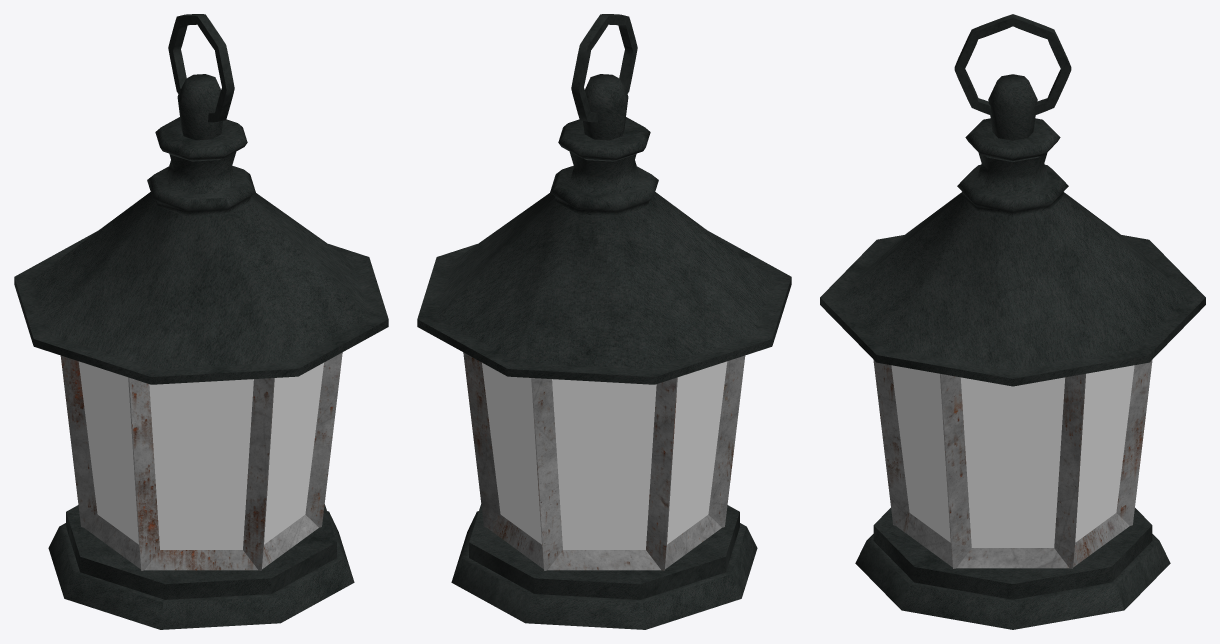
The model's file is MetalRantan.fbx.
The picture shows the model from 3 angles, left to right: view 1: azimuth 30°, elevation 25°; view 2: azimuth 150°, elevation 25°; view 3: azimuth 270°, elevation 25°; orthographic projection.
Parts seen in each view (by area): view 1: 円, 円柱.003, 円柱.001; view 2: 円, 円柱.003, 円柱.001; view 3: 円, 円柱.003, 円柱.001.
Boxes of the visible parts, x1,y1,x2,y2 form: 円: (14, 14, 388, 629); 円柱.003: (78, 361, 323, 549); 円柱.001: (60, 352, 342, 570); 円: (417, 14, 791, 629); 円柱.003: (482, 361, 727, 549); 円柱.001: (463, 352, 745, 570); 円: (820, 14, 1205, 629); 円柱.003: (891, 365, 1134, 547); 円柱.001: (873, 359, 1152, 568).
Bounding box in the file's own units: 171 × 268 × 171.
